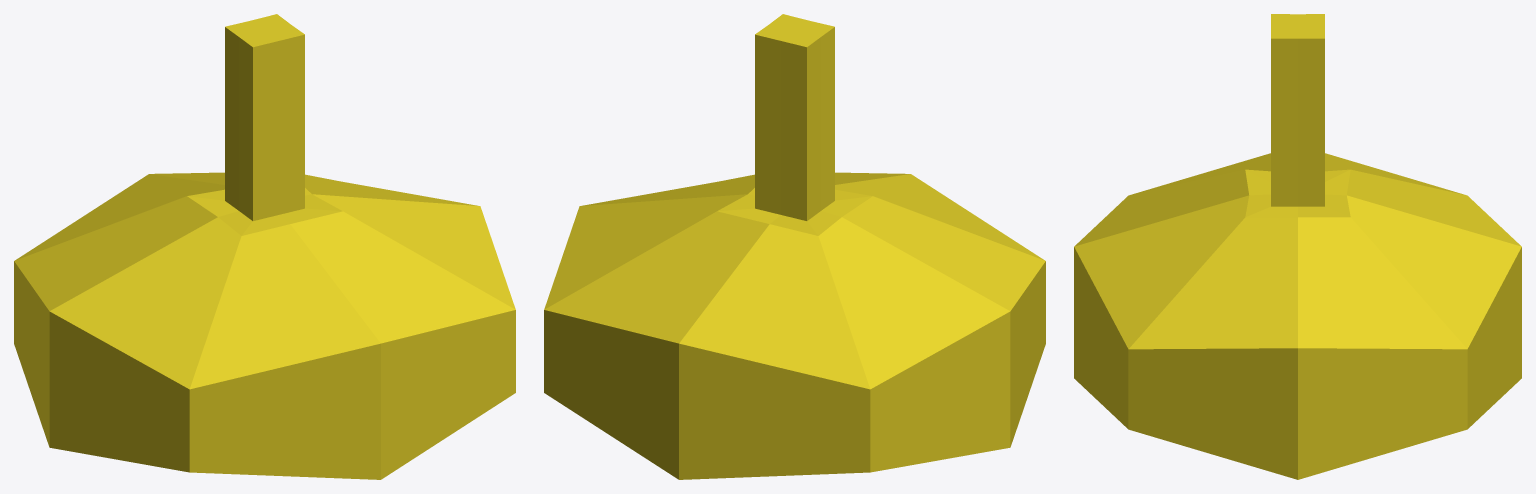
File: bombilla_n1.fbx
The picture shows the model from 3 angles, left to right: view 1: azimuth 30°, elevation 25°; view 2: azimuth 150°, elevation 25°; view 3: azimuth 270°, elevation 25°; orthographic projection. The views are drawn at different scales.
Parts seen in each view (by area): view 1: luzes; view 2: luzes; view 3: luzes.
Boxes of the visible parts, x1,y1,x2,y2 form: luzes: (14,14,515,479); luzes: (544,14,1045,479); luzes: (1074,14,1521,479).
Bounding box in the file's own units: 51.17 × 41.36 × 47.67.
